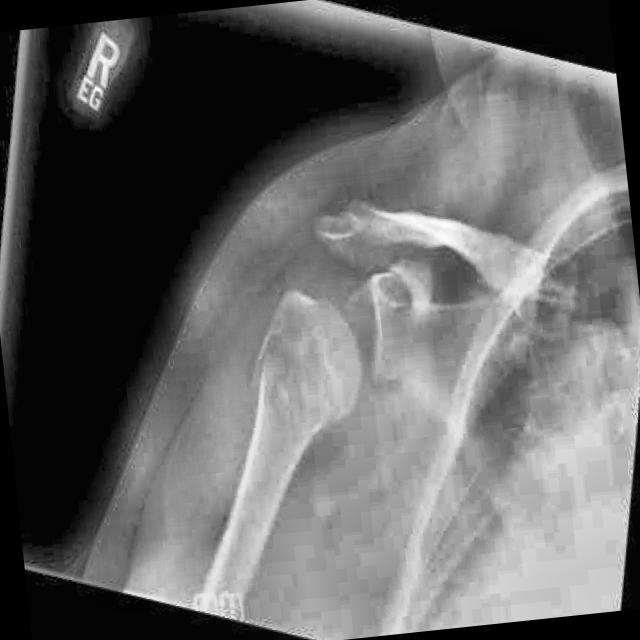shoulder fracture: (231, 316, 309, 423)
